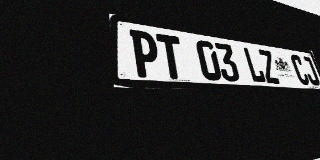0: (195, 39, 223, 81)
3: (214, 42, 241, 82)
C: (289, 54, 311, 85)
J: (300, 56, 320, 86)
L: (242, 47, 267, 83)
P: (129, 29, 161, 78)
T: (156, 33, 186, 79)
Z: (257, 49, 281, 84)
